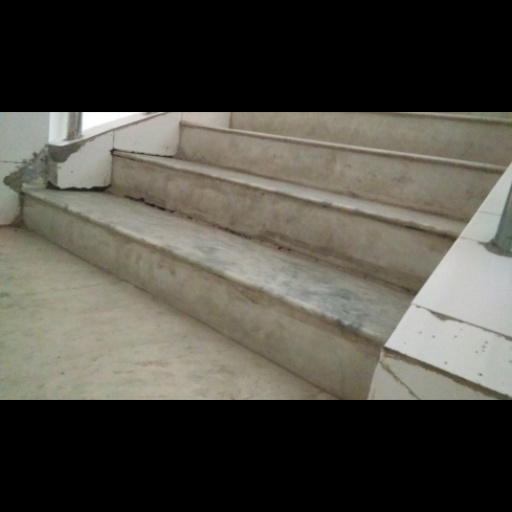Stairs: (23, 113, 512, 398)
